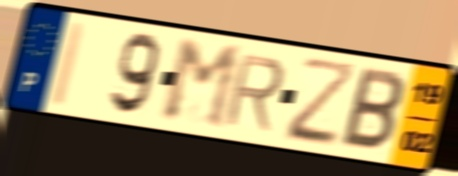9: (107, 32, 164, 117)
B: (337, 64, 407, 154)
I: (45, 18, 90, 111)
M: (160, 38, 245, 133)
R: (220, 52, 288, 134)
Z: (284, 56, 359, 150)
